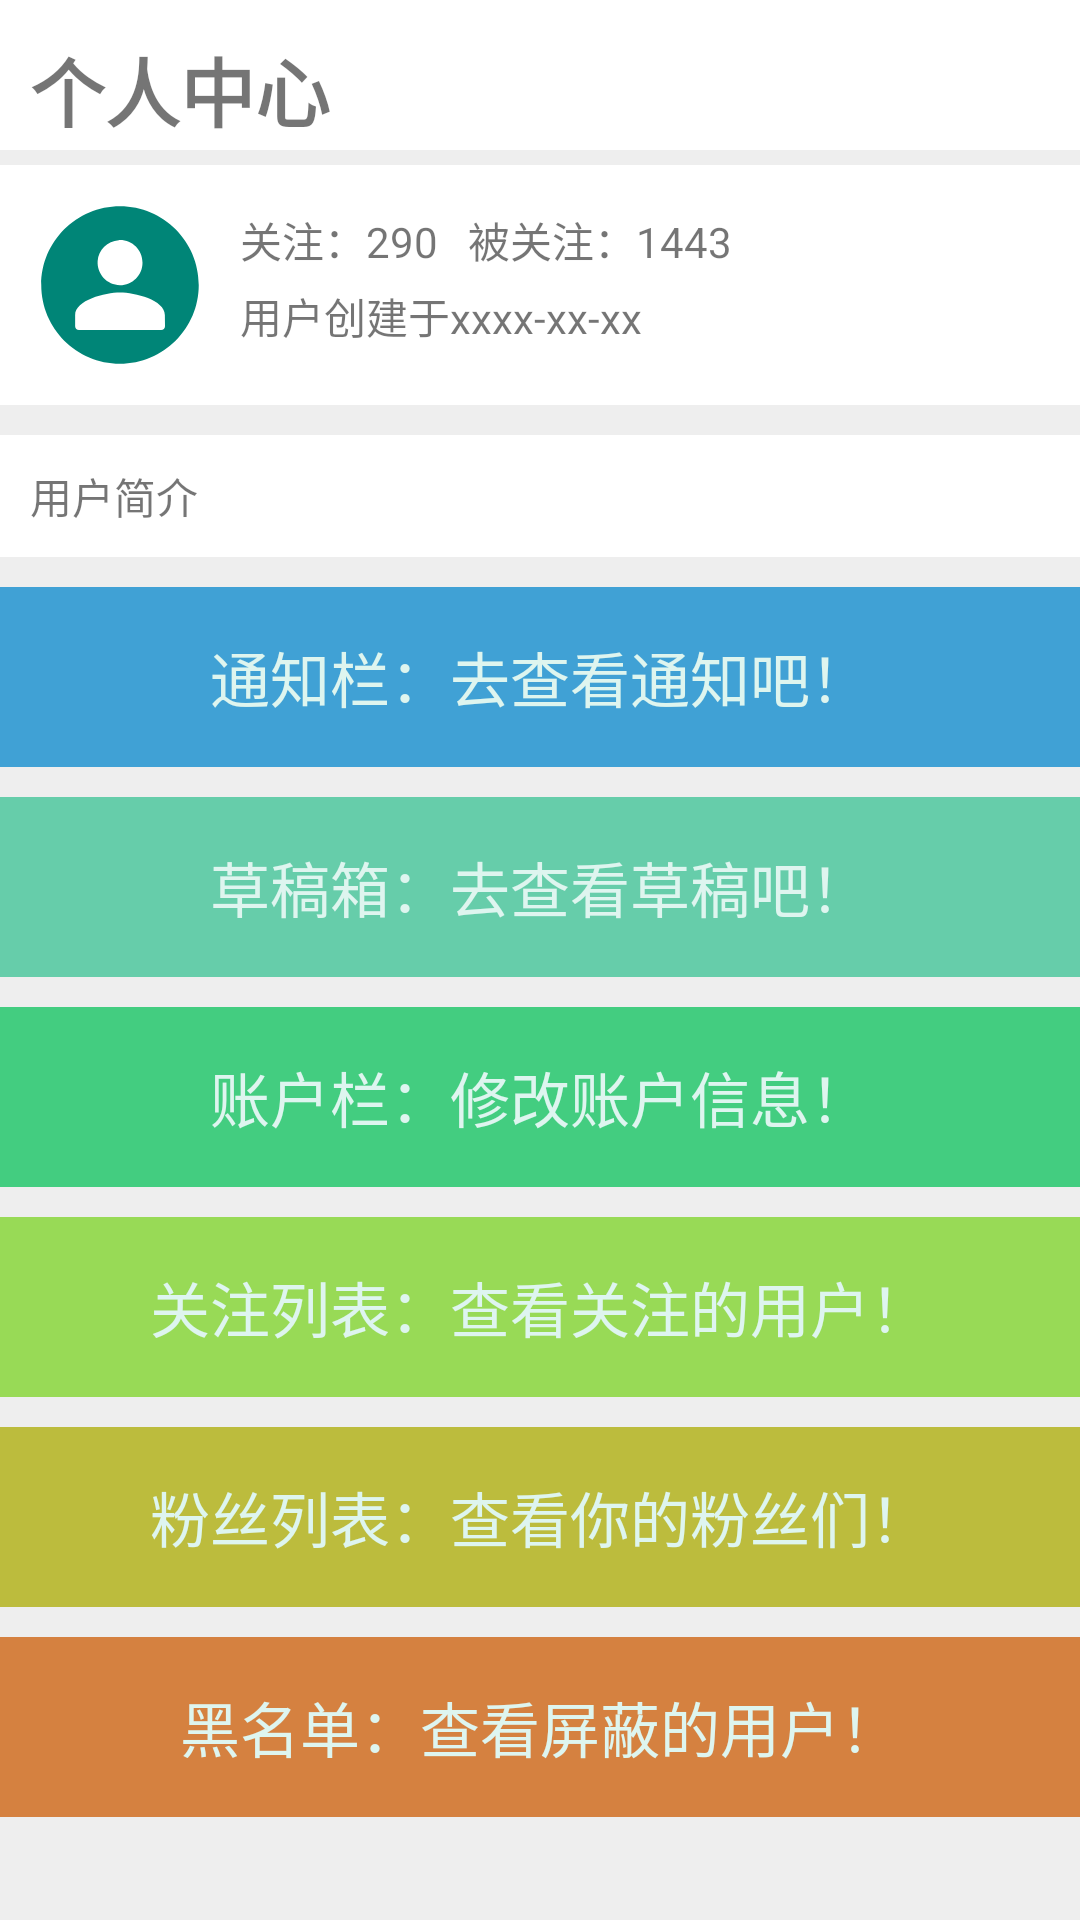

Locate icon controls on the screen. Image size 1080x1920, boxes as (x1, y1, x2, y2).
user: (41, 206, 199, 364)
